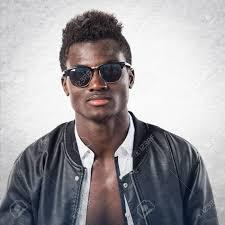sunglasses: (61, 59, 126, 88)
